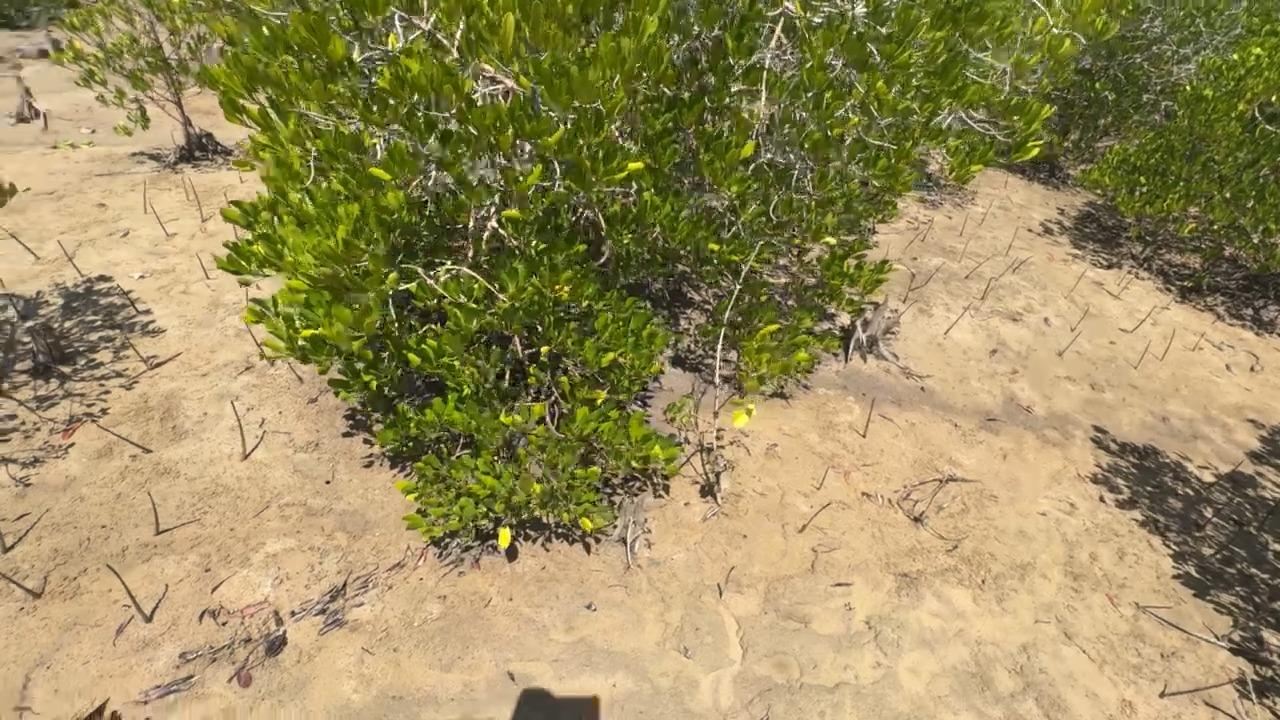Tree: (1194, 518, 1251, 569), (105, 563, 149, 622), (897, 260, 946, 304), (1158, 675, 1244, 698), (244, 322, 277, 366), (0, 224, 40, 260), (1205, 457, 1246, 492), (1224, 609, 1274, 637), (1200, 495, 1238, 529), (0, 571, 44, 599), (964, 249, 1003, 279), (797, 502, 833, 533), (230, 399, 247, 461), (1, 277, 24, 322), (944, 301, 974, 335), (57, 240, 84, 277), (1201, 697, 1239, 720), (188, 176, 206, 223), (1130, 305, 1158, 333), (148, 199, 169, 236), (901, 227, 929, 254), (223, 189, 238, 239), (1065, 266, 1088, 297), (1258, 499, 1280, 531), (117, 284, 141, 313), (1059, 329, 1083, 356), (995, 256, 1019, 282), (147, 490, 160, 535), (1160, 327, 1176, 361), (1114, 276, 1136, 300), (1135, 339, 1153, 368), (813, 463, 831, 491), (978, 197, 996, 225), (1071, 306, 1090, 332), (863, 397, 875, 438), (979, 276, 999, 300), (1005, 225, 1020, 257), (195, 252, 211, 279), (1012, 255, 1034, 273), (958, 235, 972, 263), (287, 362, 304, 384), (921, 216, 935, 242), (900, 299, 918, 317), (1157, 297, 1176, 314), (1192, 331, 1206, 351), (1138, 603, 1173, 610), (960, 212, 970, 236), (725, 565, 736, 585), (0, 531, 9, 554), (181, 176, 189, 201), (1003, 168, 1010, 189), (143, 179, 147, 214), (885, 241, 893, 258), (1115, 274, 1127, 285), (716, 582, 723, 599), (43, 112, 49, 130), (246, 287, 249, 305), (238, 170, 242, 183)
